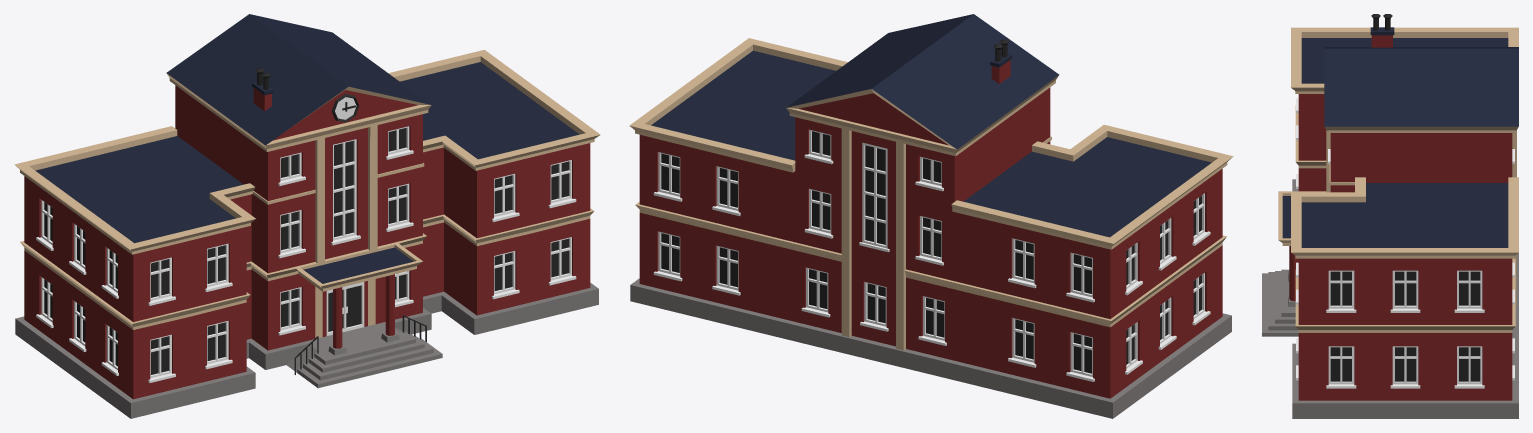
Rendered from buildings-building-school.glb.
3 renders of one model, left to right at view 1: azimuth 30°, elevation 25°; view 2: azimuth 150°, elevation 25°; view 3: azimuth 270°, elevation 25°, orthographic. The views are drawn at different scales.
Parts seen in each view (by area): view 1: building-school; view 2: building-school; view 3: building-school.
Boxes of the visible parts, bbox=[...] form: building-school: bbox=[14, 14, 600, 418]; building-school: bbox=[629, 14, 1233, 418]; building-school: bbox=[1262, 14, 1518, 418].
Bounding box in the file's own units: 24.9 × 13.72 × 12.01.
